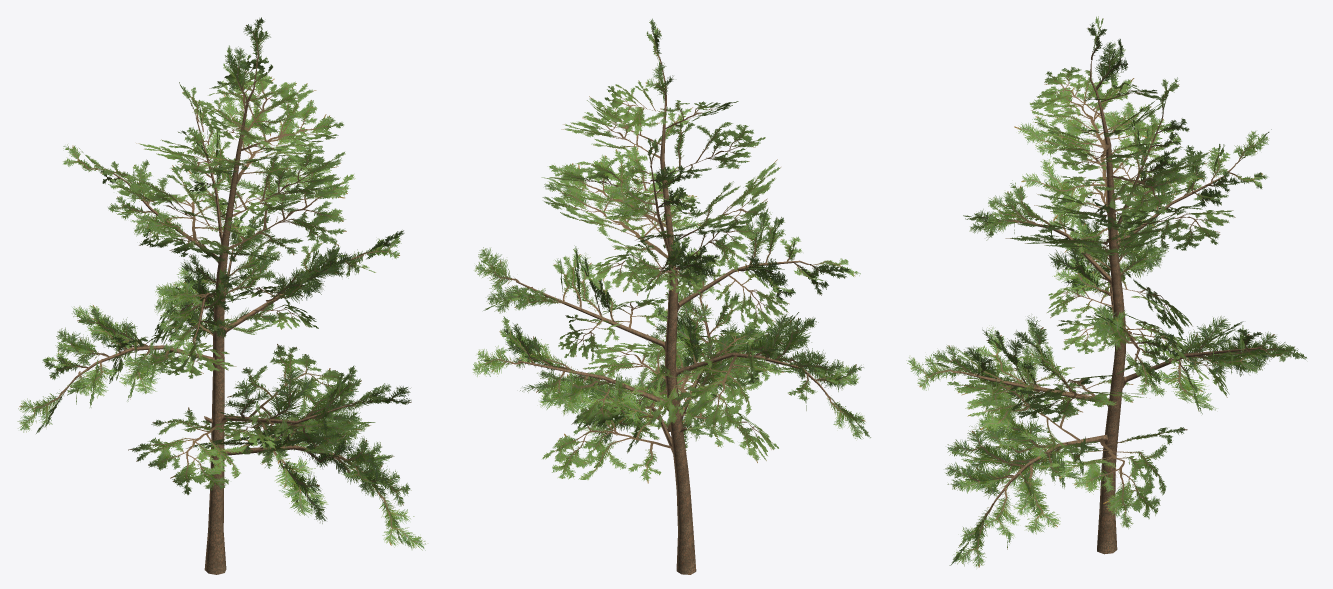
The picture shows the model from 3 angles, left to right: view 1: azimuth 30°, elevation 25°; view 2: azimuth 150°, elevation 25°; view 3: azimuth 270°, elevation 25°; orthographic projection. The views are drawn at different scales.
Visible parts, largest first — view 1: Pine_small_3_LOD2_Bark_Mat_0; view 2: Pine_small_3_LOD2_Bark_Mat_0; view 3: Pine_small_3_LOD2_Bark_Mat_0.
Part boxes in pixels (x1,y1,x2,y2): Pine_small_3_LOD2_Bark_Mat_0: (17,17,425,574); Pine_small_3_LOD2_Bark_Mat_0: (472,18,870,574); Pine_small_3_LOD2_Bark_Mat_0: (906,16,1306,567).
Bounding box in the file's own units: 3.61 × 4.65 × 3.14.
